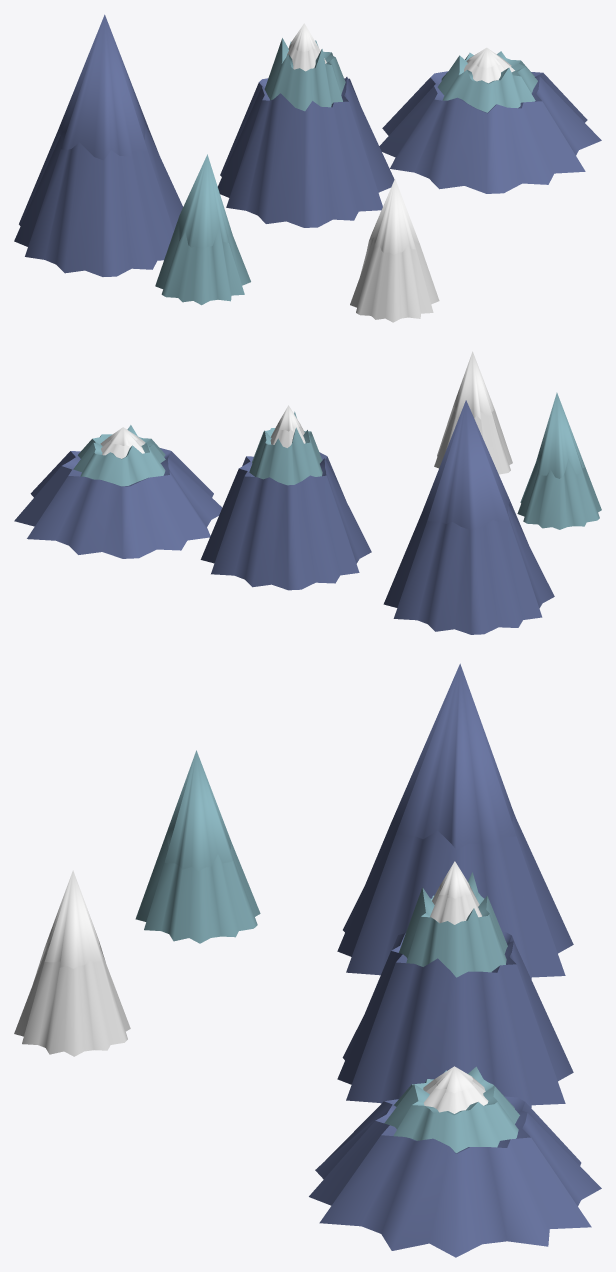
The model's file is mountain.glb.
3 views of the same model, one above another, from view 1: azimuth 30°, elevation 25°; view 2: azimuth 150°, elevation 25°; view 3: azimuth 270°, elevation 25° (orthographic). The views are drawn at different scales.
Parts seen in each view (by area): view 1: polySurface1, pCylinder6, pCylinder7, polySurface3, polySurface2; view 2: polySurface1, pCylinder6, pCylinder7, polySurface3, polySurface2; view 3: pCylinder7, pCylinder6, polySurface1, polySurface3, polySurface2.
Boxes of the visible parts, x1,y1,x2,y2 form: polySurface1: (14,14,182,276); pCylinder6: (218,23,394,227); pCylinder7: (379,47,601,193); polySurface3: (155,154,250,305); polySurface2: (350,179,439,322); polySurface1: (383,400,554,634); pCylinder6: (200,405,371,590); pCylinder7: (14,425,222,558); polySurface3: (517,392,601,529); polySurface2: (434,351,512,474); pCylinder7: (309,1066,601,1257); pCylinder6: (337,861,573,1107); polySurface1: (337,663,573,979); polySurface3: (135,750,260,943); polySurface2: (14,870,130,1056).
Size of the model in its own units: 81.77 by 30.81 by 56.81.
